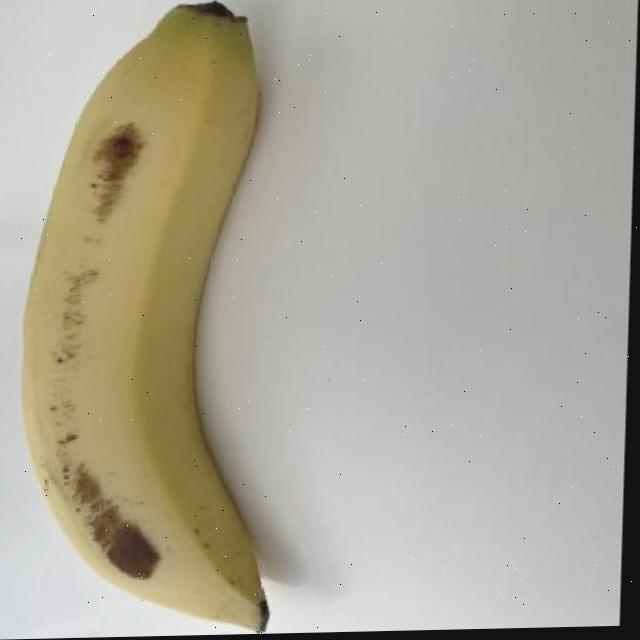banana: (13, 0, 293, 638)
